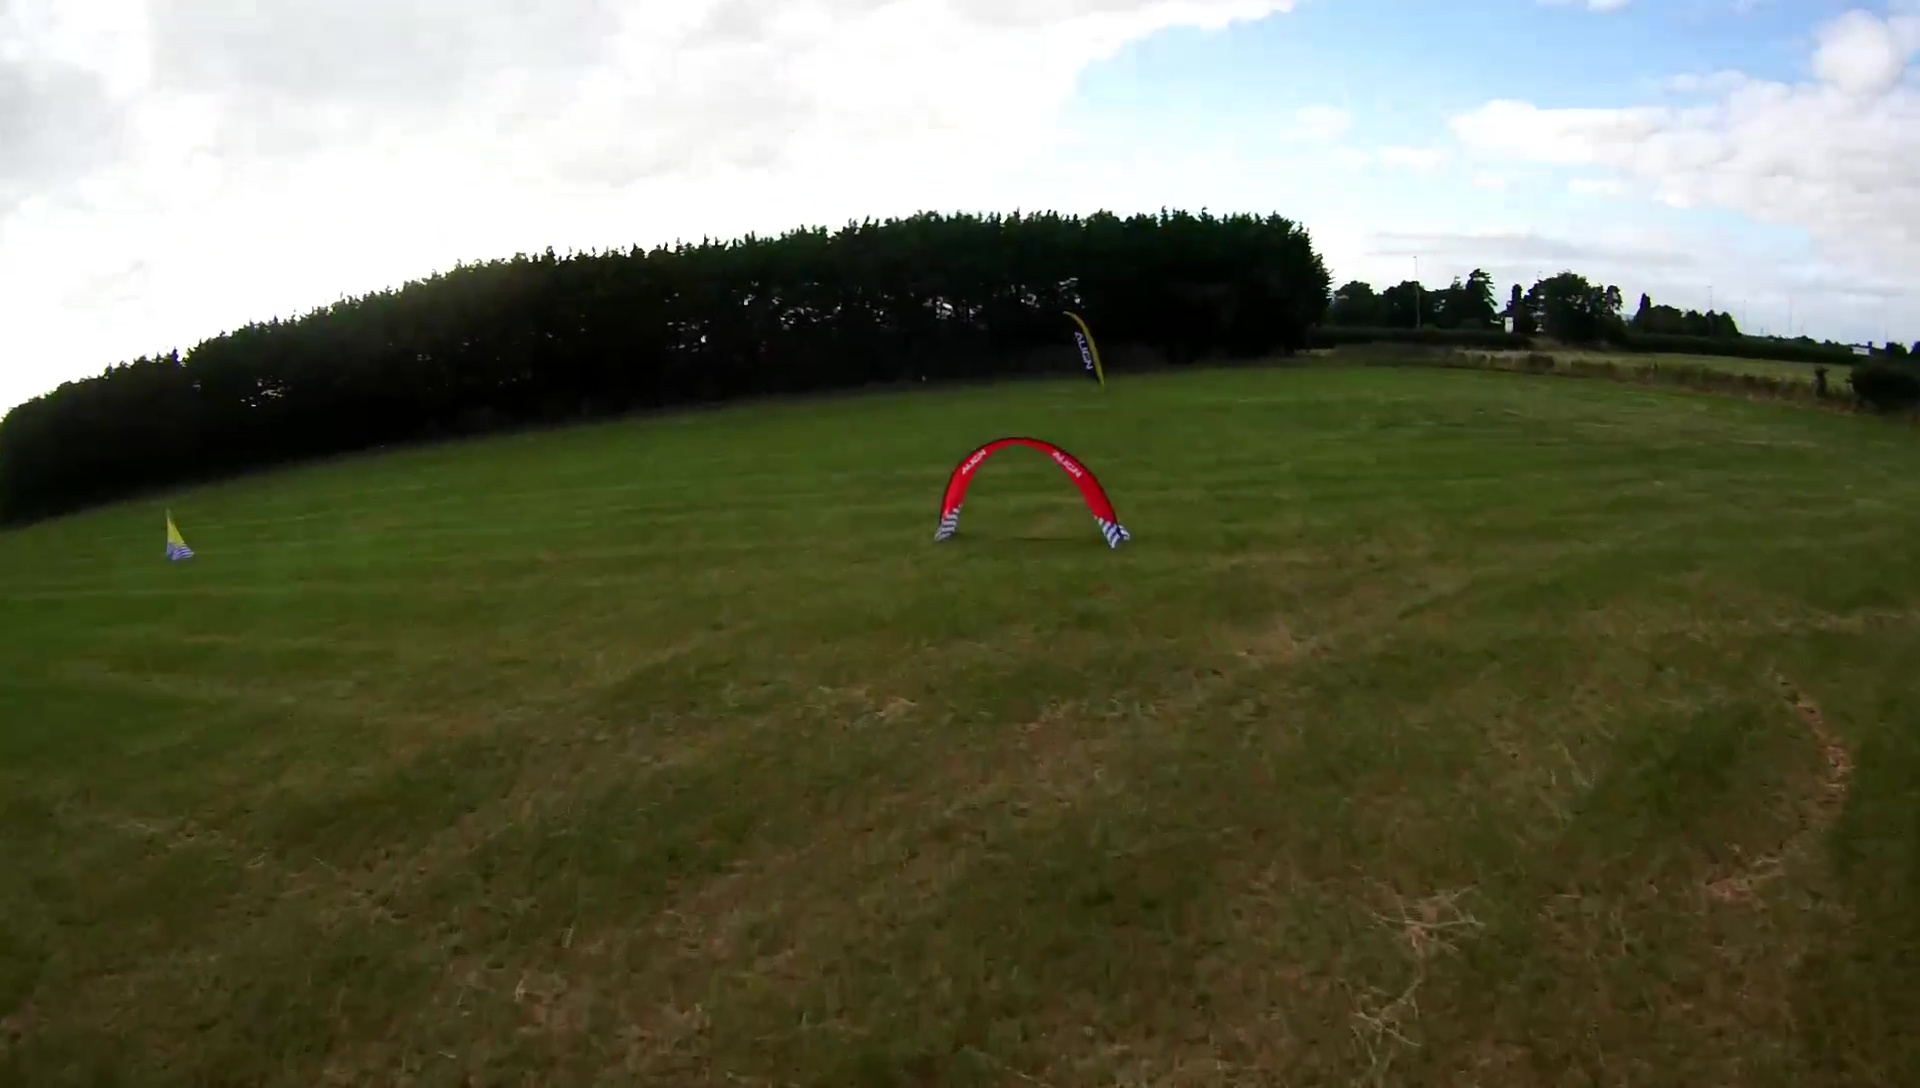gate: (934, 435, 1135, 553)
